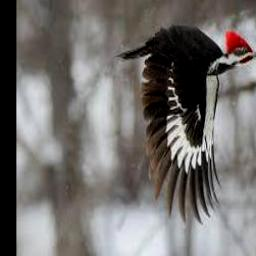Woodpecker: (117, 27, 256, 221)
